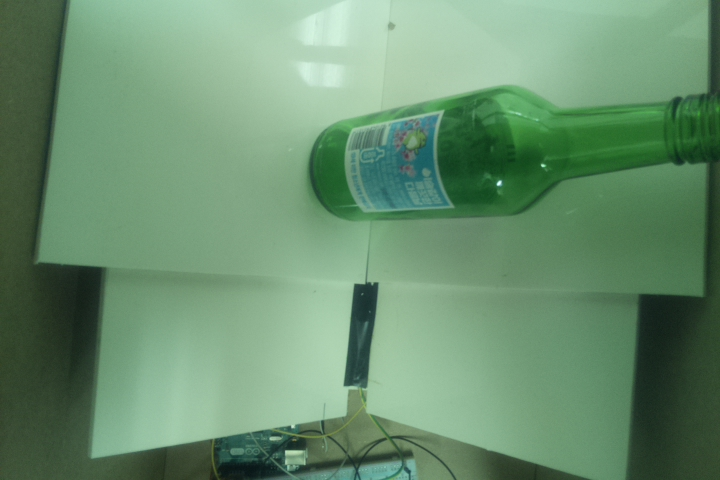soju: (308, 82, 720, 224)
